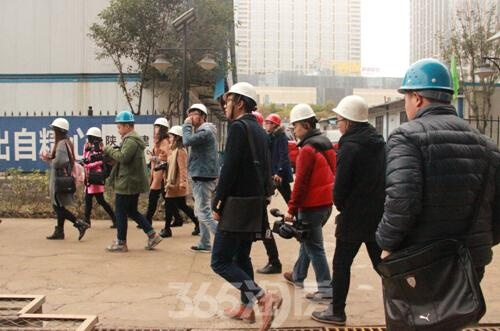blue: (398, 58, 457, 120), (113, 110, 135, 136)
red: (264, 113, 281, 133)
white: (221, 82, 260, 120), (335, 96, 370, 132), (288, 104, 317, 137), (185, 101, 208, 126), (50, 118, 69, 139), (85, 126, 102, 144), (153, 117, 168, 137), (168, 124, 183, 142)
